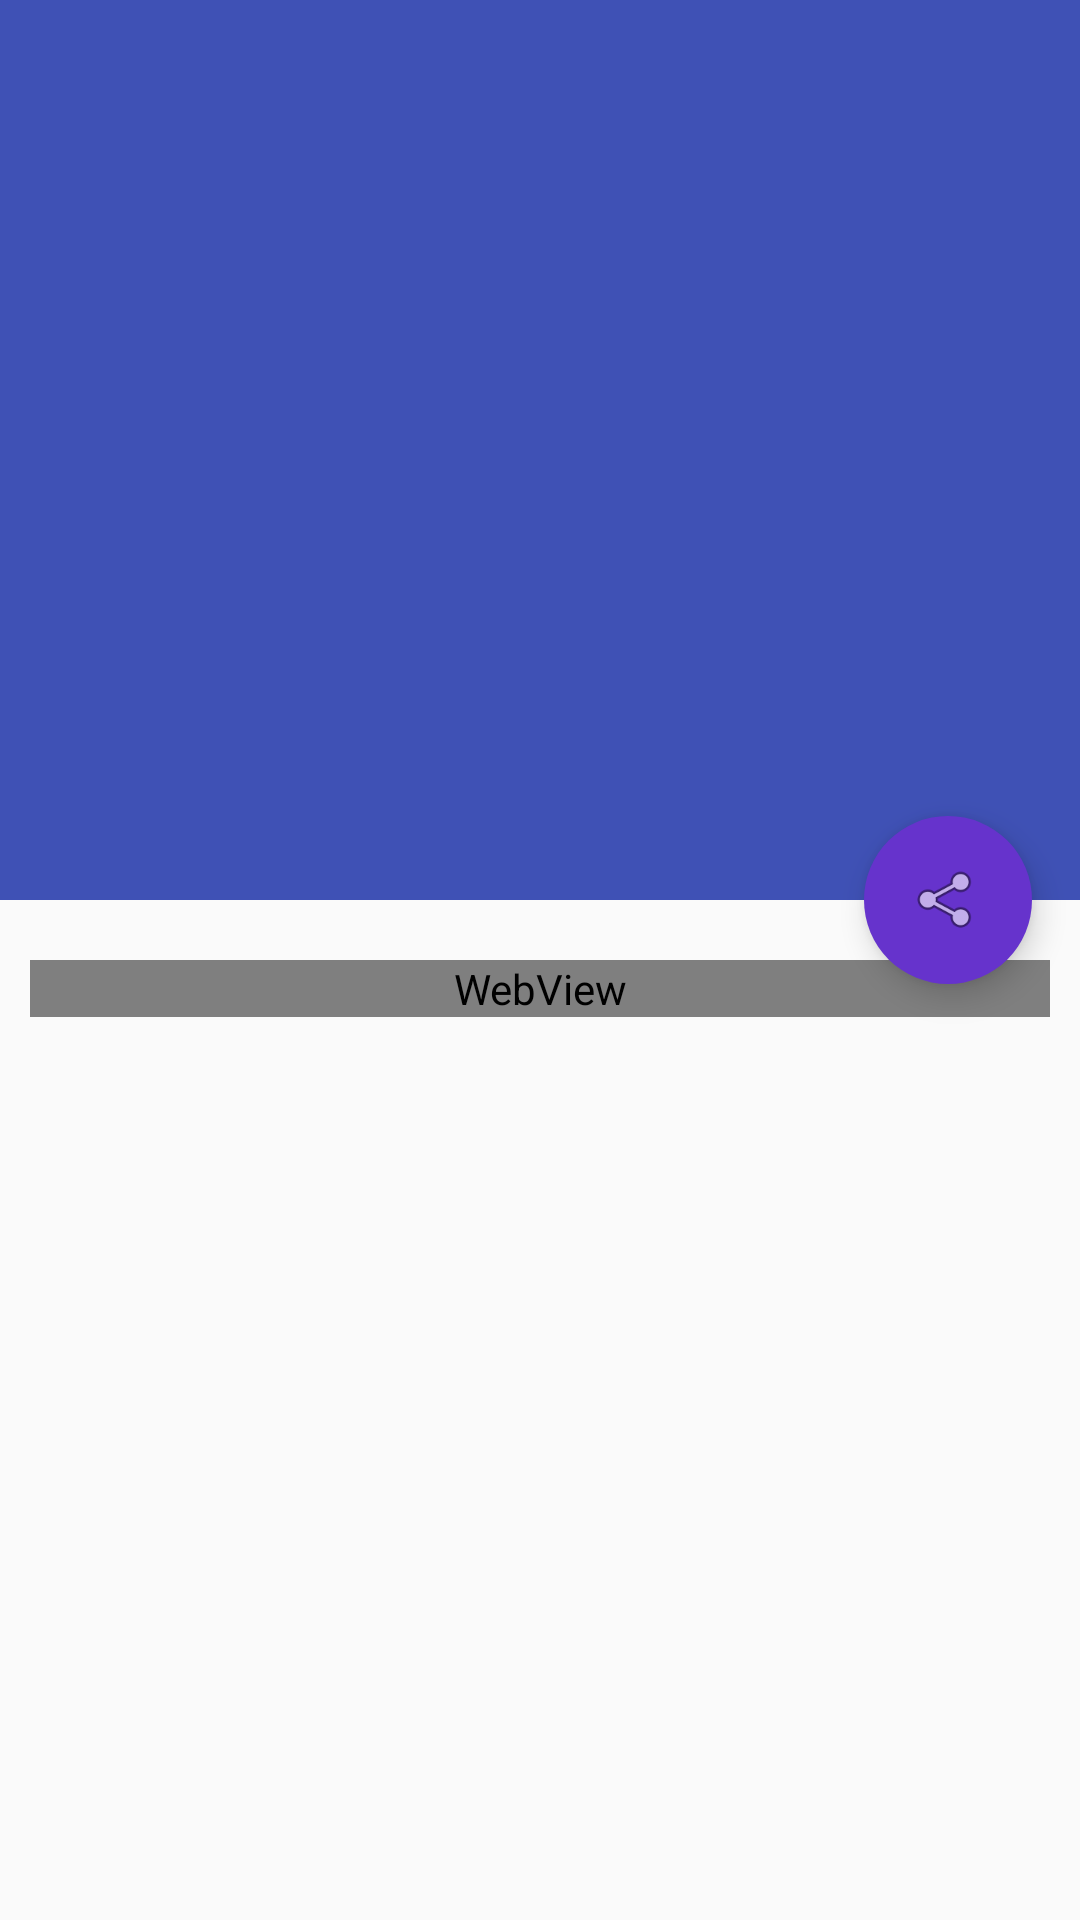

Screen size 1080*1920. Icon name, then its center in pixels as (x=x, y=y):
share: (x=948, y=900)
